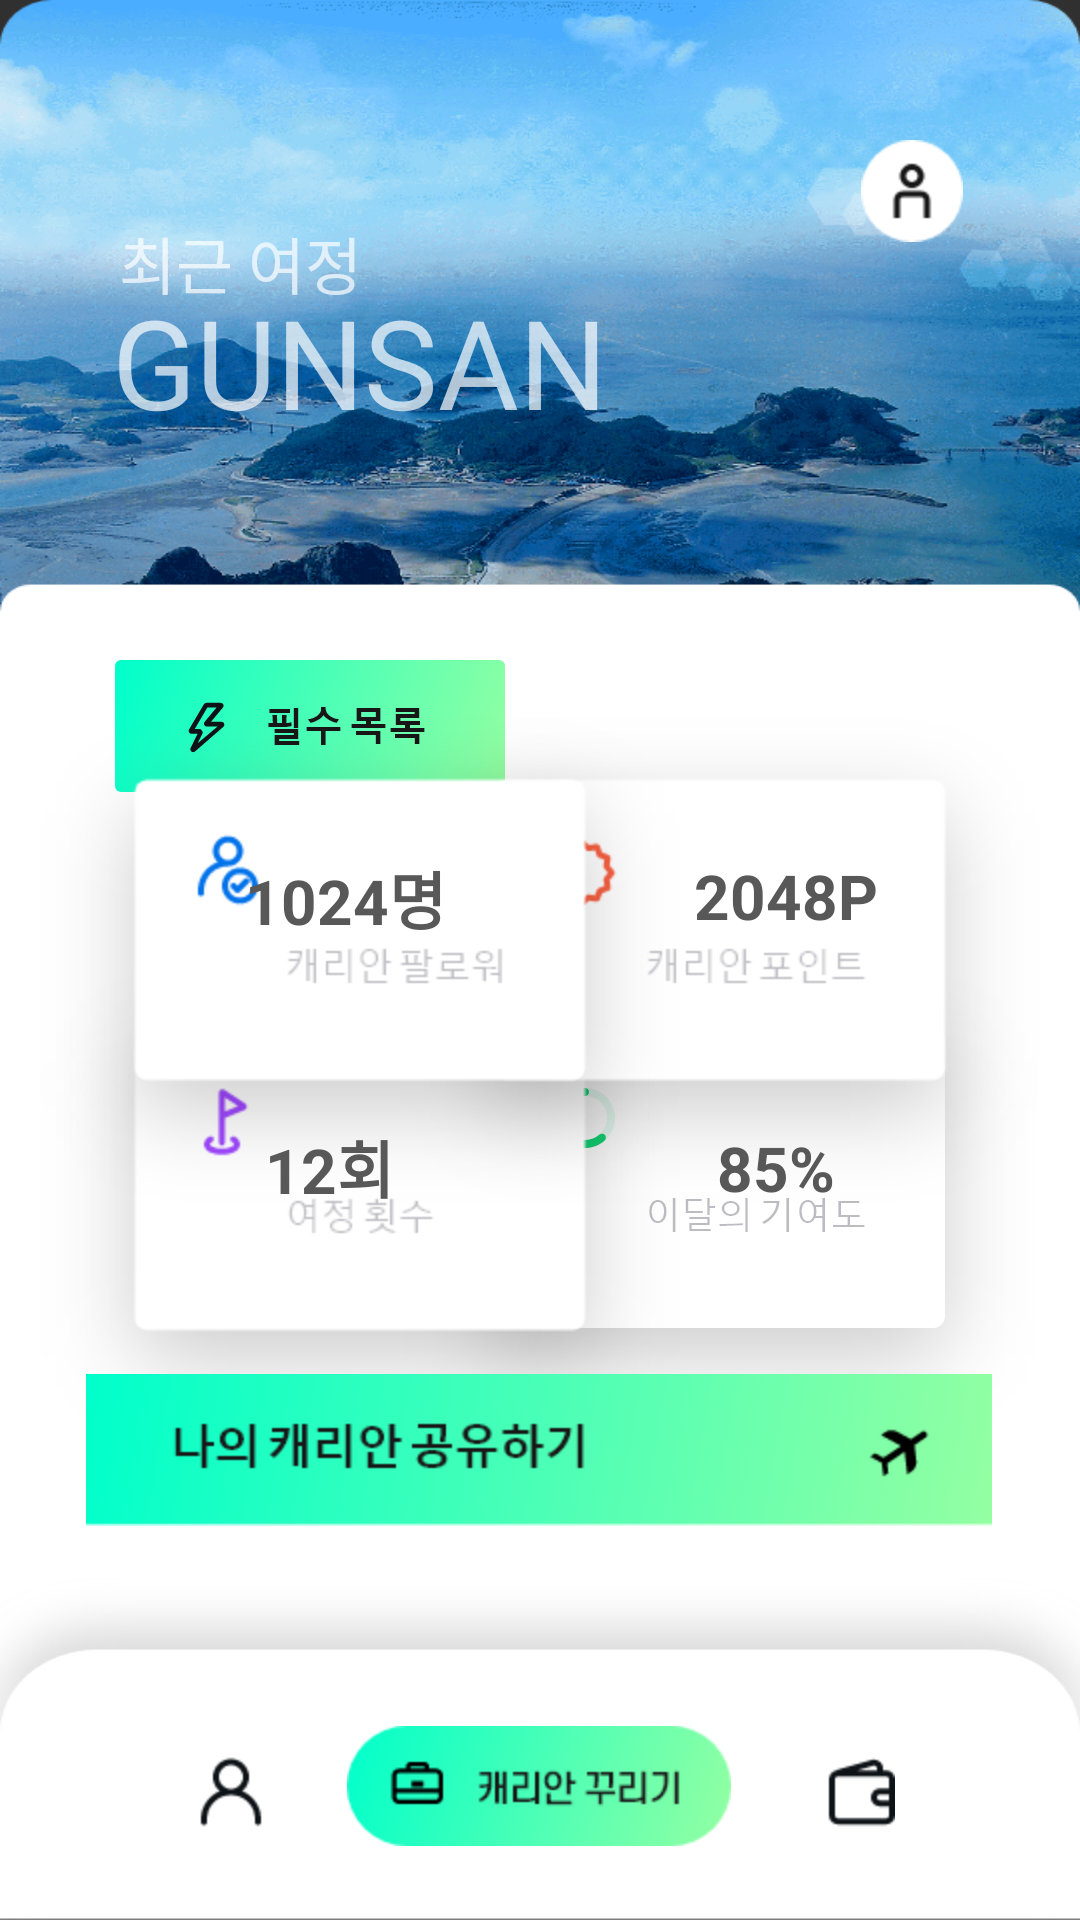

Where to tap for icons on this 1080*1920 app screen, as point (x, y):
profile: point (912, 191)
wallet: point (861, 1792)
